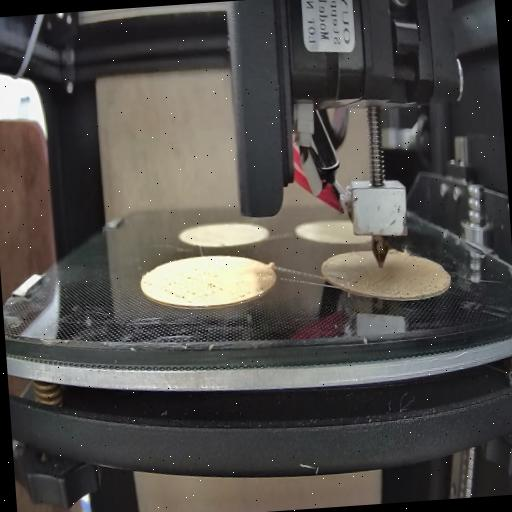under_extrusion: (154, 266, 227, 309), (390, 272, 448, 302), (238, 276, 267, 306), (327, 272, 363, 292)
